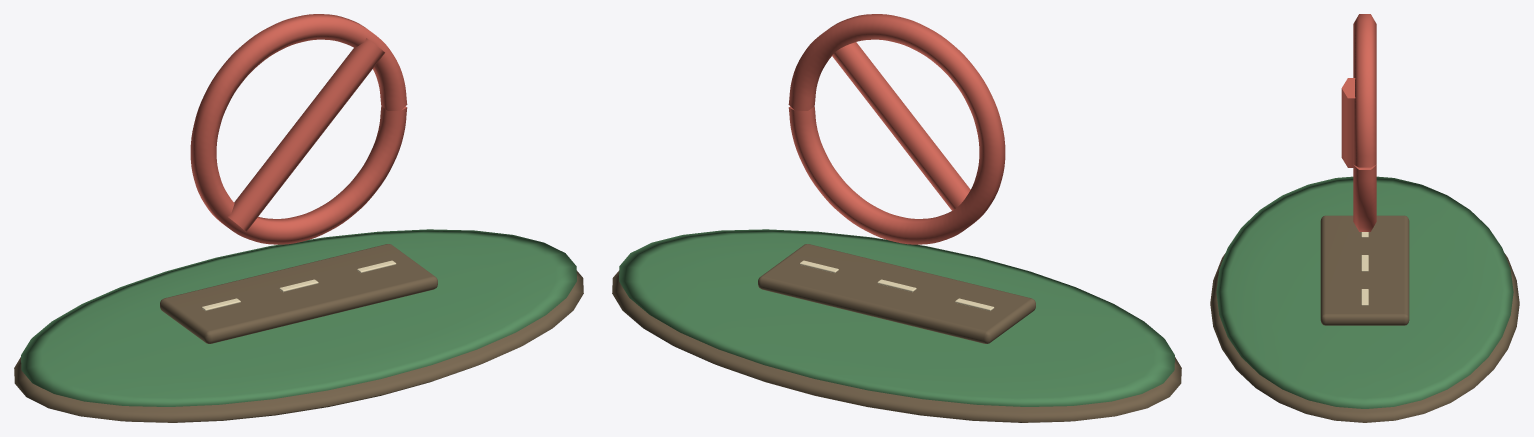
Rendered from complete-first-not-allowed.glb.
3 views of the same model, side by side, from view 1: azimuth 30°, elevation 25°; view 2: azimuth 150°, elevation 25°; view 3: azimuth 270°, elevation 25° (orthographic). The views are drawn at different scales.
Visible parts, largest first — view 1: complete-first-not-allowed_surface_01, complete-first-not-allowed_surface_00, complete-first-not-allowed_surface_02, complete-first-not-allowed_surface_03; view 2: complete-first-not-allowed_surface_01, complete-first-not-allowed_surface_00, complete-first-not-allowed_surface_02, complete-first-not-allowed_surface_03; view 3: complete-first-not-allowed_surface_01, complete-first-not-allowed_surface_00, complete-first-not-allowed_surface_02, complete-first-not-allowed_surface_03.
Boxes of the visible parts, bbox=[...] form: complete-first-not-allowed_surface_01: bbox=[21, 229, 576, 406]; complete-first-not-allowed_surface_00: bbox=[14, 244, 583, 422]; complete-first-not-allowed_surface_02: bbox=[190, 14, 407, 244]; complete-first-not-allowed_surface_03: bbox=[201, 260, 396, 310]; complete-first-not-allowed_surface_01: bbox=[619, 229, 1174, 406]; complete-first-not-allowed_surface_00: bbox=[612, 244, 1181, 422]; complete-first-not-allowed_surface_02: bbox=[788, 14, 1005, 244]; complete-first-not-allowed_surface_03: bbox=[799, 260, 994, 310]; complete-first-not-allowed_surface_01: bbox=[1216, 176, 1513, 408]; complete-first-not-allowed_surface_00: bbox=[1210, 215, 1519, 422]; complete-first-not-allowed_surface_02: bbox=[1341, 14, 1376, 231]; complete-first-not-allowed_surface_03: bbox=[1361, 232, 1368, 305].
Bounding box in the file's own units: 4.56 × 2.62 × 2.5.
